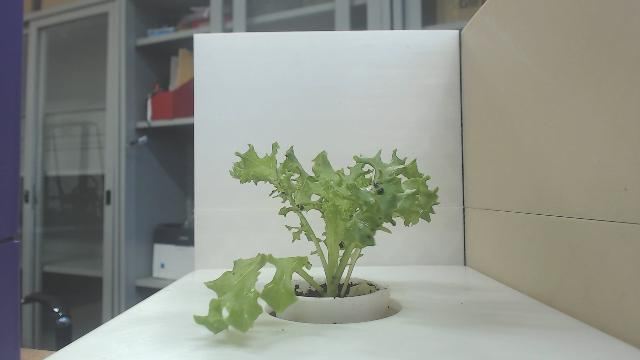Vegetative Stage: (192, 139, 442, 337)
